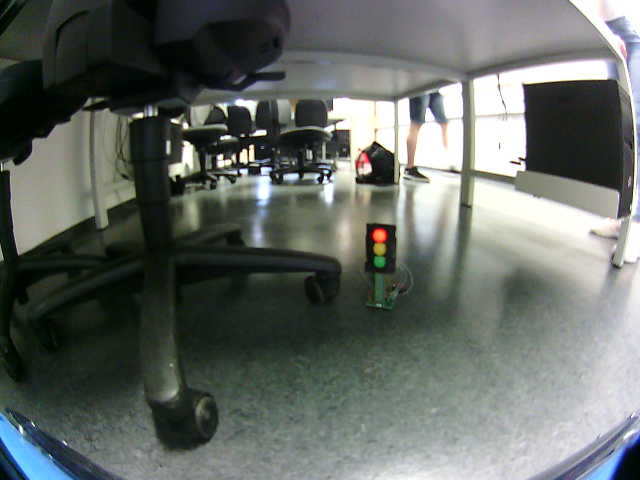red trafficlight: (367, 228, 390, 270)
